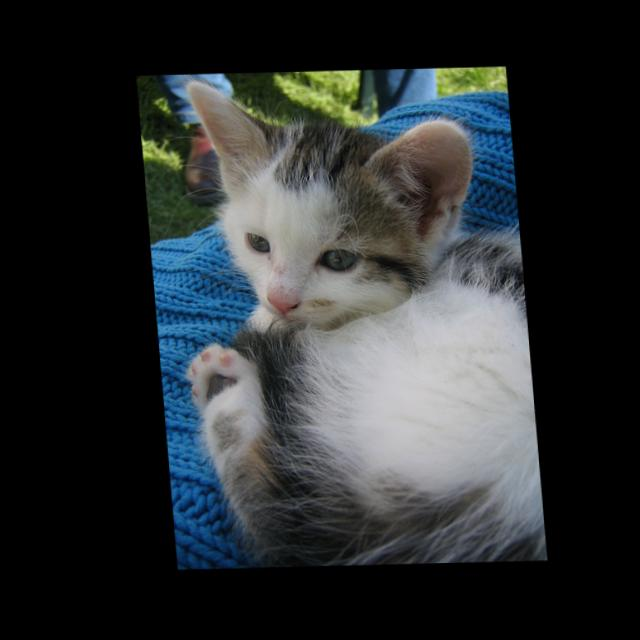animals: (192, 77, 461, 311)
